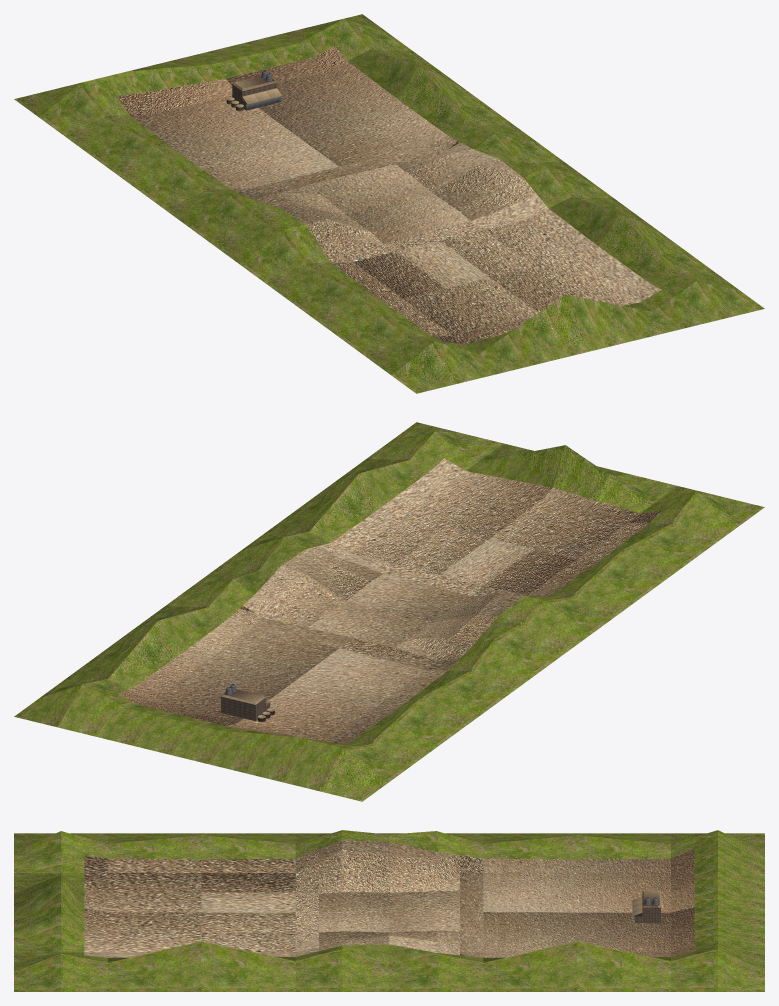
File: floor.gltf
3 renders of one model, top to bottom at view 1: azimuth 30°, elevation 25°; view 2: azimuth 150°, elevation 25°; view 3: azimuth 270°, elevation 25°, orthographic. The views are drawn at different scales.
Parts seen in each view (by area): view 1: 平面.001, 立方体; view 2: 平面.001, 立方体; view 3: 平面.001, 立方体.
Part boxes in pixels (x1,y1,x2,y2): 平面.001: (14,14,764,393); 立方体: (232,76,276,104); 平面.001: (14,422,764,801); 立方体: (221,689,265,721); 平面.001: (14,830,764,991); 立方体: (642,890,660,922).
Size of the model in its own units: 1000 by 109 by 2001.
11 materials, 11 textured.
